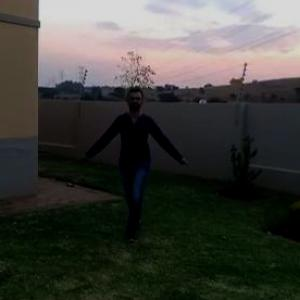land: (90, 91, 182, 221)
